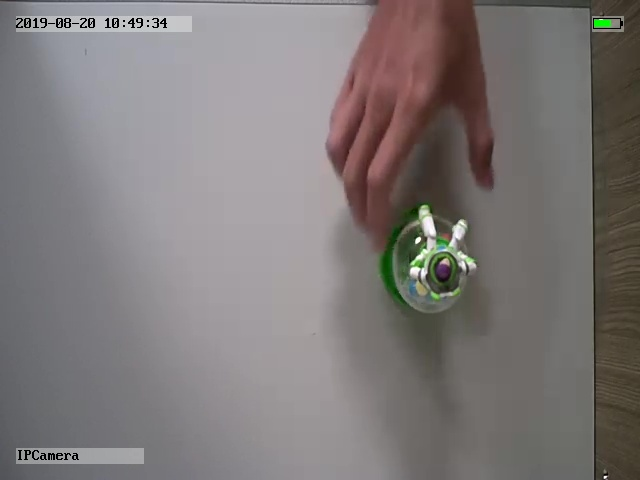buzz: (380, 201, 480, 322)
